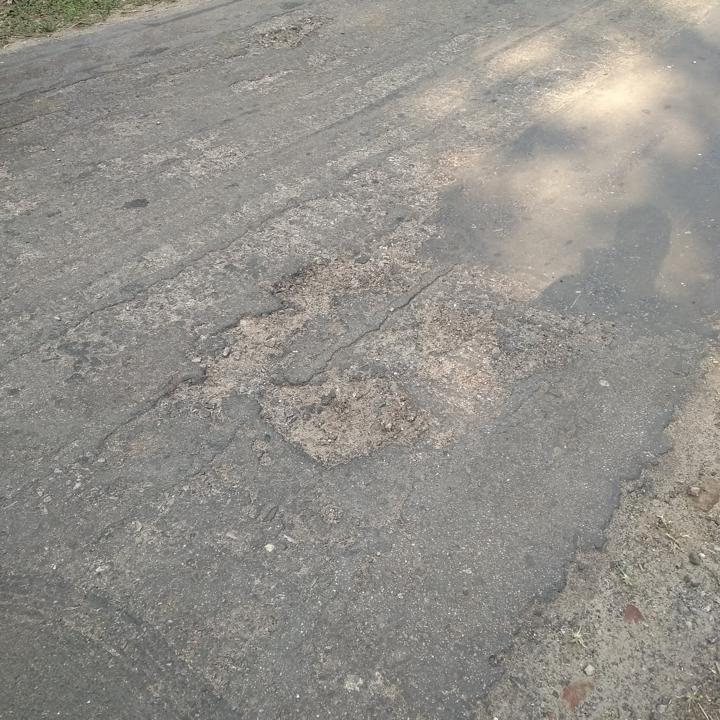pothole: (470, 351, 720, 720), (162, 256, 353, 413), (257, 359, 407, 471), (253, 15, 329, 49)
